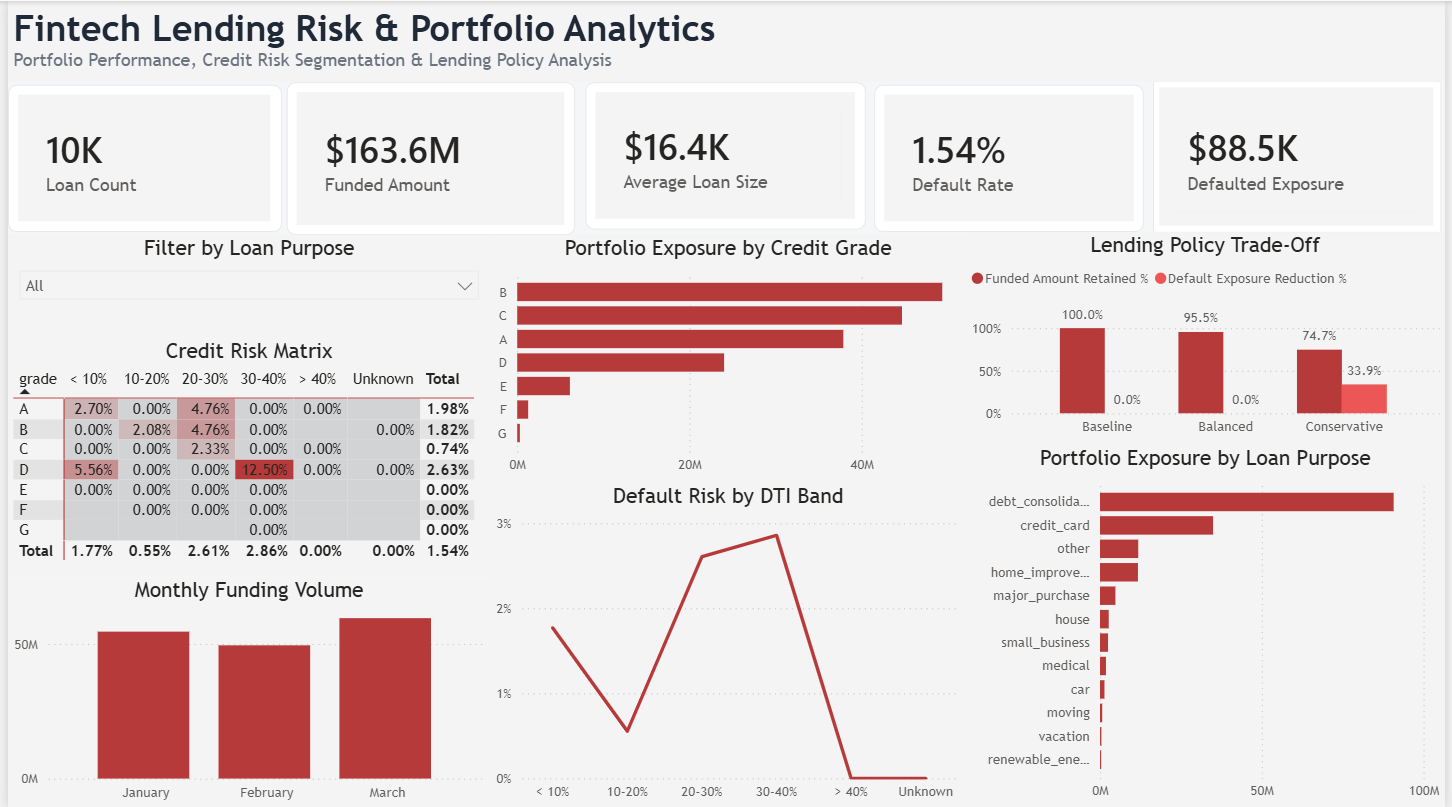

The dashboard page shown, as its layout file describes it:
{"tool":"powerbi","page":{"name":"Page 1","canvas":[1280,720],"ordinal":0},"visuals":[{"type":"cardVisual","title":"Total Funded Amount","fields":{"Data":["Sum(cleaned_loans.loan_amount)"]},"box":[248.5,72.4,257,136.3],"z":0},{"type":"cardVisual","title":"Total Loans","fields":{"Data":["CountNonNull(cleaned_loans.loan_amount)"]},"box":[0,74.8,243.7,131.5],"z":1000},{"type":"clusteredBarChart","title":"Portfolio Exposure by Credit Grade","fields":{"Category":["cleaned_loans.grade"],"Y":["Sum(cleaned_loans.loan_amount)"]},"box":[429.5,208.7,423.5,220.8],"z":2000},{"type":"columnChart","title":"Monthly Funding Volume","fields":{"Category":["cleaned_loans.issue_month.Variation.Date Hierarchy.Month"],"Y":["Sum(cleaned_loans.loan_amount)"]},"box":[0,512.7,429.5,207.5],"z":3000},{"type":"clusteredBarChart","title":"Portfolio Exposure by Loan Purpose","fields":{"Y":["Sum(cleaned_loans.loan_amount)"],"Category":["cleaned_loans.loan_purpose"]},"box":[853,395.7,427.1,324.5],"z":4000},{"type":"cardVisual","title":"Observed Default Rate","fields":{"Data":["cleaned_loans.Default Rate"]},"box":[770.9,74.8,240.1,131.5],"z":5000},{"type":"cardVisual","title":"Defaulted Principal Exposure","fields":{"Data":["Sum(cleaned_loans.loan_amount)"]},"box":[1019.4,71.2,257,135.1],"z":6000},{"type":"pivotTable","title":"Credit Risk Matrix","fields":{"Rows":["cleaned_loans.grade"],"Columns":["cleaned_loans.dti_band"],"Values":["cleaned_loans.Default Rate"]},"box":[0,300.4,429.5,212.3],"z":7000},{"type":"lineChart","title":"Default Risk by DTI Band","fields":{"Y":["cleaned_loans.Default Rate"],"Category":["cleaned_loans.dti_band"]},"box":[429.5,429.5,423.5,290.8],"z":8000},{"type":"slicer","title":"Filter by Loan Purpose","fields":{"Values":["cleaned_loans.loan_purpose"]},"box":[0,208.7,429.5,91.7],"z":9000},{"type":"cardVisual","title":"Avg. Loan Size","fields":{"Data":["cleaned_loans.Average Loan Size"]},"box":[513.9,72.4,249.7,131.5],"z":10000},{"type":"clusteredColumnChart","title":"Lending Policy Trade-Off","fields":{"Category":["Policy Scenarios.Scenario"],"Y":["Policy Scenarios.Funded Amount Retained %","Policy Scenarios.Default Exposure Reduction %"]},"box":[853,206.3,427.1,189.4],"z":11000},{"type":"textbox","box":[0,0,1280,72.4],"z":12000}]}

Visuals, with their boxes in screenshot pixels (x1, y1, x2, y2), scaled from the page's 1280x720 canvas onto the 1452x807 screenshot:
"Total Funded Amount" cardVisual: (x1=282, y1=81, x2=573, y2=234)
"Total Loans" cardVisual: (x1=0, y1=84, x2=276, y2=231)
"Portfolio Exposure by Credit Grade" clusteredBarChart: (x1=487, y1=234, x2=968, y2=481)
"Monthly Funding Volume" columnChart: (x1=0, y1=575, x2=487, y2=806)
"Portfolio Exposure by Loan Purpose" clusteredBarChart: (x1=968, y1=444, x2=1451, y2=806)
"Observed Default Rate" cardVisual: (x1=874, y1=84, x2=1147, y2=231)
"Defaulted Principal Exposure" cardVisual: (x1=1156, y1=80, x2=1448, y2=231)
"Credit Risk Matrix" pivotTable: (x1=0, y1=337, x2=487, y2=575)
"Default Risk by DTI Band" lineChart: (x1=487, y1=481, x2=968, y2=806)
"Filter by Loan Purpose" slicer: (x1=0, y1=234, x2=487, y2=337)
"Avg. Loan Size" cardVisual: (x1=583, y1=81, x2=866, y2=229)
"Lending Policy Trade-Off" clusteredColumnChart: (x1=968, y1=231, x2=1451, y2=444)
textbox: (x1=0, y1=0, x2=1451, y2=81)
